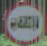Heavy Vehicles: (4, 3, 43, 45)
